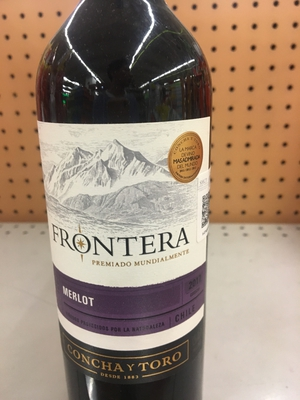frontera merlot: (35, 5, 228, 400)
